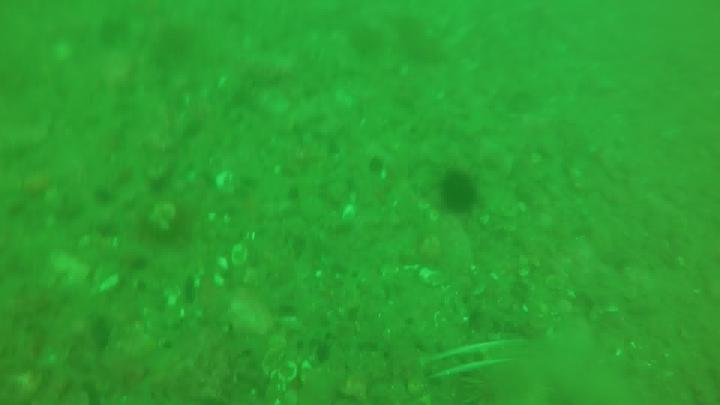echinus: (443, 170, 482, 214)
scallop: (263, 347, 298, 385), (233, 242, 247, 267), (215, 258, 229, 271)
